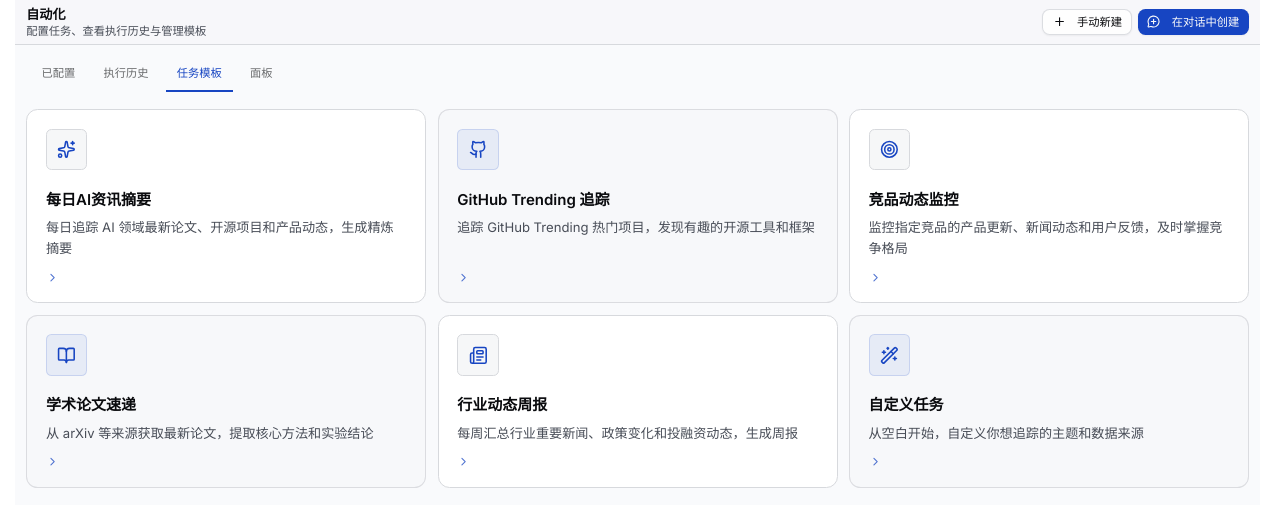
IntelligencePage › renders the composition-layer PanelHost tab with registered panels
The image size is (1277, 505).
Click the tab "面板" at [261, 73], box [238, 58, 285, 88]
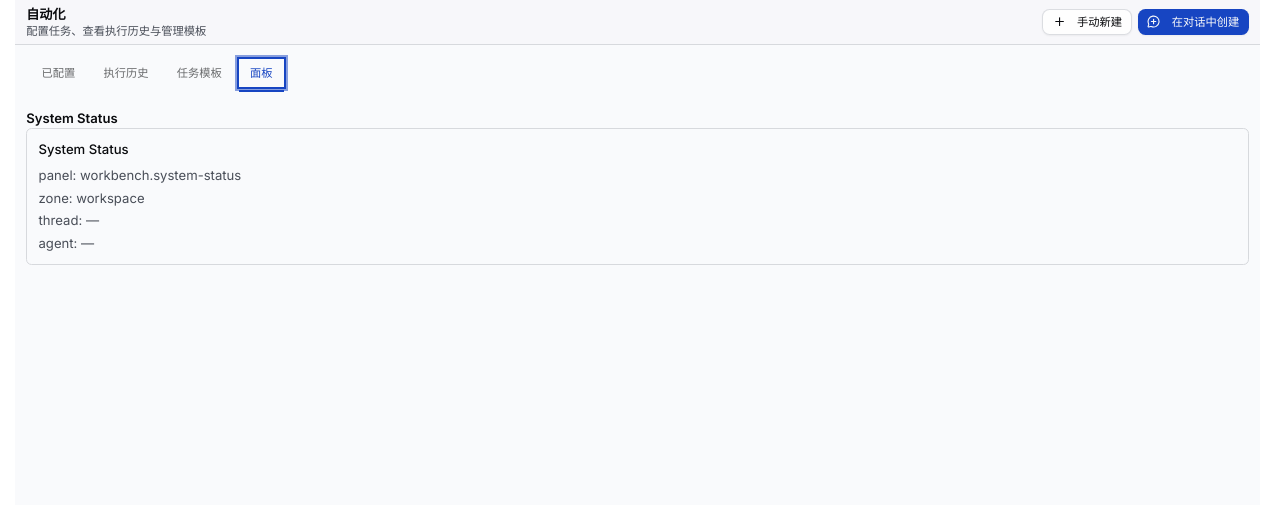
Result: the element with test id "panel-workbench.system-status" is shown at [26, 109, 1249, 265]
Result: the heading "System Status" is shown at [26, 110, 118, 126]
